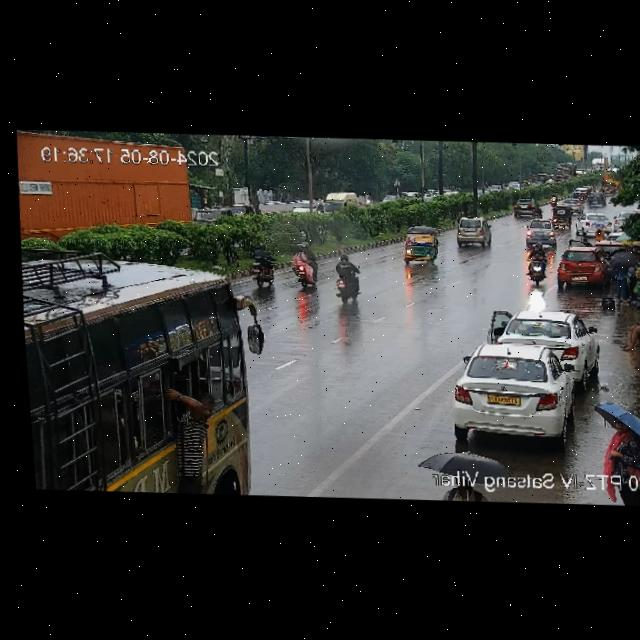bus: (18, 246, 263, 441)
car: (448, 343, 582, 450), (484, 309, 601, 394), (555, 248, 612, 289), (402, 223, 440, 267), (454, 216, 493, 250), (522, 218, 559, 250), (573, 213, 614, 236), (510, 199, 541, 216), (581, 191, 607, 209), (550, 208, 572, 228), (557, 196, 581, 207)
motorcycle: (331, 252, 370, 304), (288, 240, 320, 292), (244, 244, 278, 287), (522, 239, 550, 291), (547, 192, 559, 209)
person: (583, 398, 640, 472), (604, 245, 640, 300), (616, 294, 640, 358)
truck: (17, 134, 196, 245)
